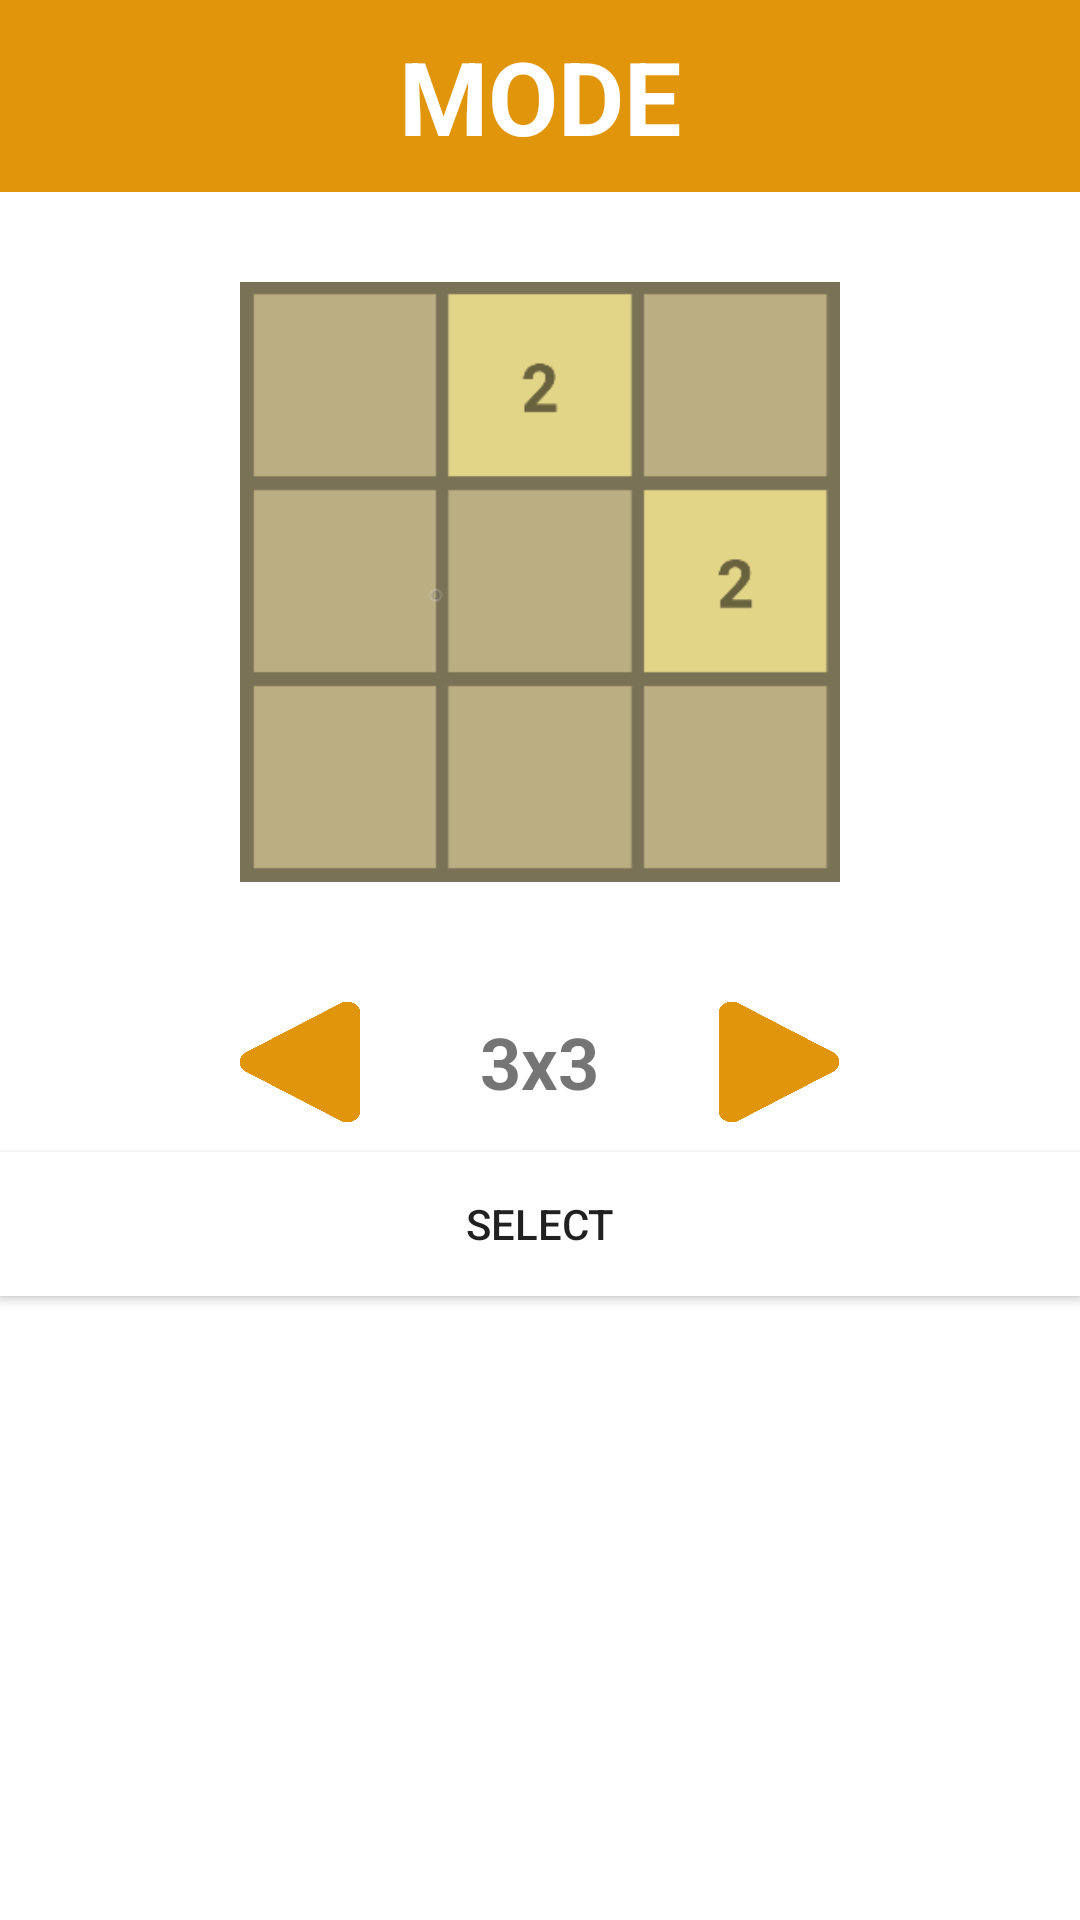

Icon bounding boxes for this 1080w x 1920h phone screenshot, format (x1, y1, x2, y2):
back: (240, 1002, 360, 1122)
next: (719, 1002, 839, 1122)
